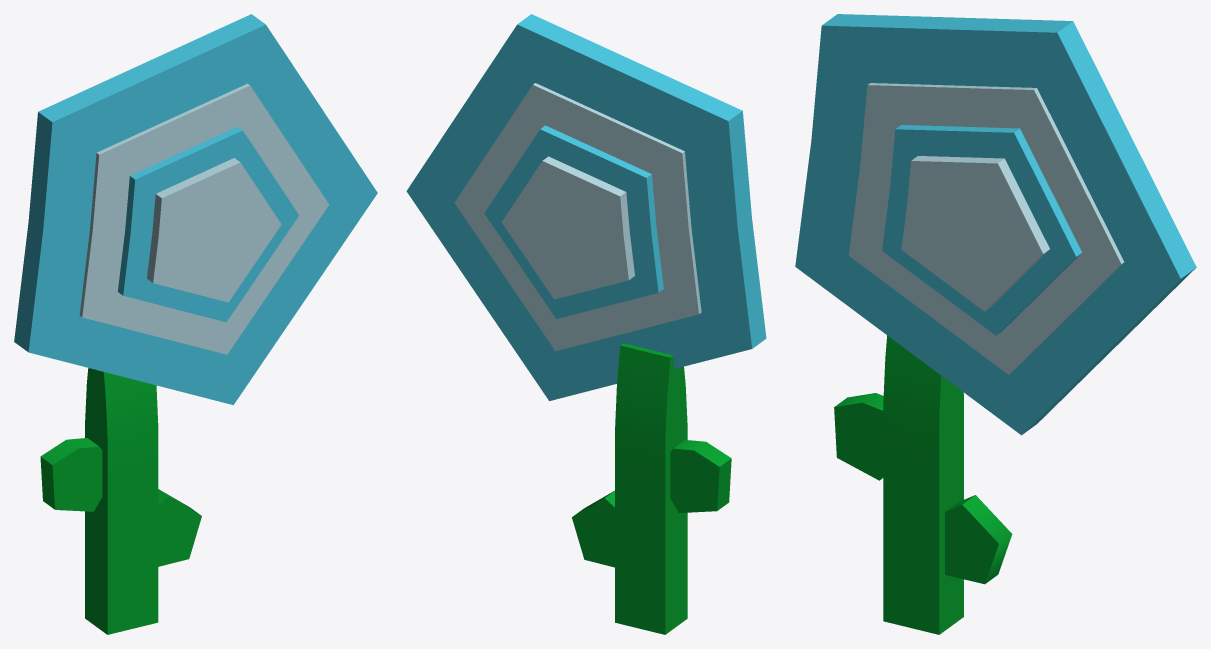
Rendered from circleflower1.fbx.
3 renders of one model, left to right at view 1: azimuth 30°, elevation 25°; view 2: azimuth 150°, elevation 25°; view 3: azimuth 330°, elevation 25°, orthographic. The views are drawn at different scales.
Visible parts, largest first — view 1: stemCircleFlowerTransform1; view 2: stemCircleFlowerTransform1; view 3: stemCircleFlowerTransform1.
Boxes of the visible parts, bbox=[...] form: stemCircleFlowerTransform1: bbox=[14, 14, 377, 634]; stemCircleFlowerTransform1: bbox=[406, 14, 766, 634]; stemCircleFlowerTransform1: bbox=[795, 14, 1196, 634].
Bounding box in the file's own units: 2.73 × 4.27 × 0.5802.
